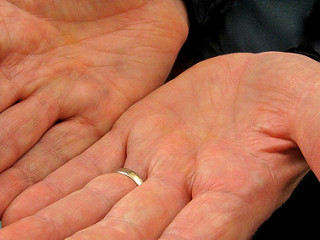palm: (163, 70, 292, 199), (18, 3, 142, 104)
